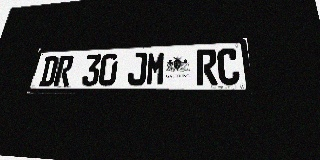0: (98, 53, 119, 86)
3: (81, 54, 102, 86)
C: (217, 48, 240, 85)
D: (38, 56, 60, 86)
J: (127, 52, 148, 86)
M: (146, 51, 166, 86)
R: (197, 49, 218, 85), (53, 55, 75, 86)
